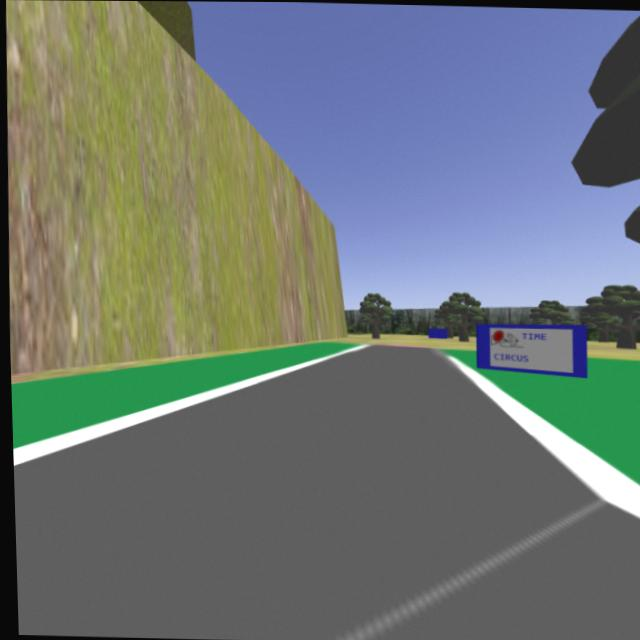clueboard: (471, 319, 591, 381)
